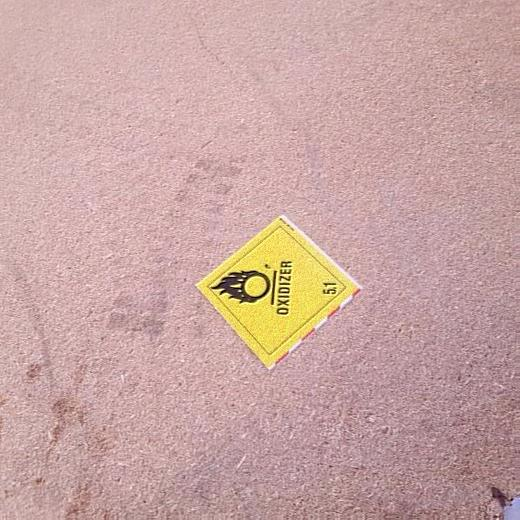oxidizer: (198, 219, 361, 370)
